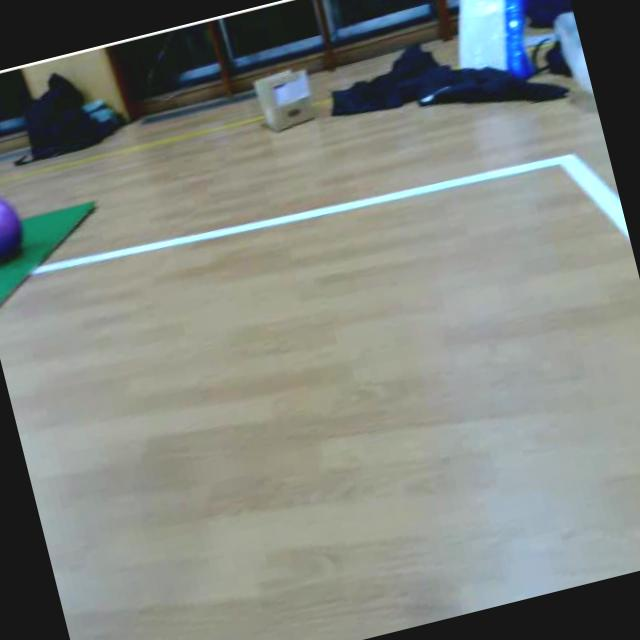purple_ball: (0, 182, 32, 270)
